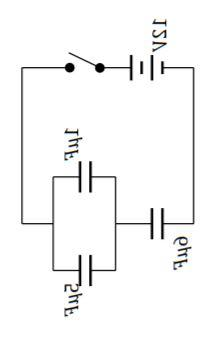Capacitor: (137, 193, 172, 254)
